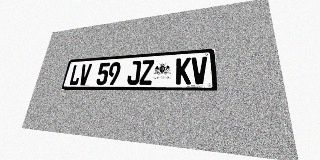5: (96, 62, 110, 85)
9: (107, 62, 121, 85)
J: (126, 60, 141, 85)
K: (175, 57, 191, 84)
L: (68, 64, 82, 85)
V: (191, 56, 208, 84), (78, 64, 92, 85)
Z: (139, 60, 154, 85)
